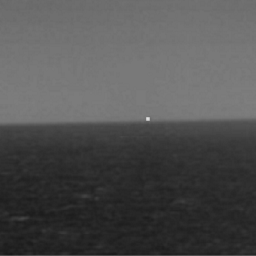Target: (144, 115, 151, 122)
